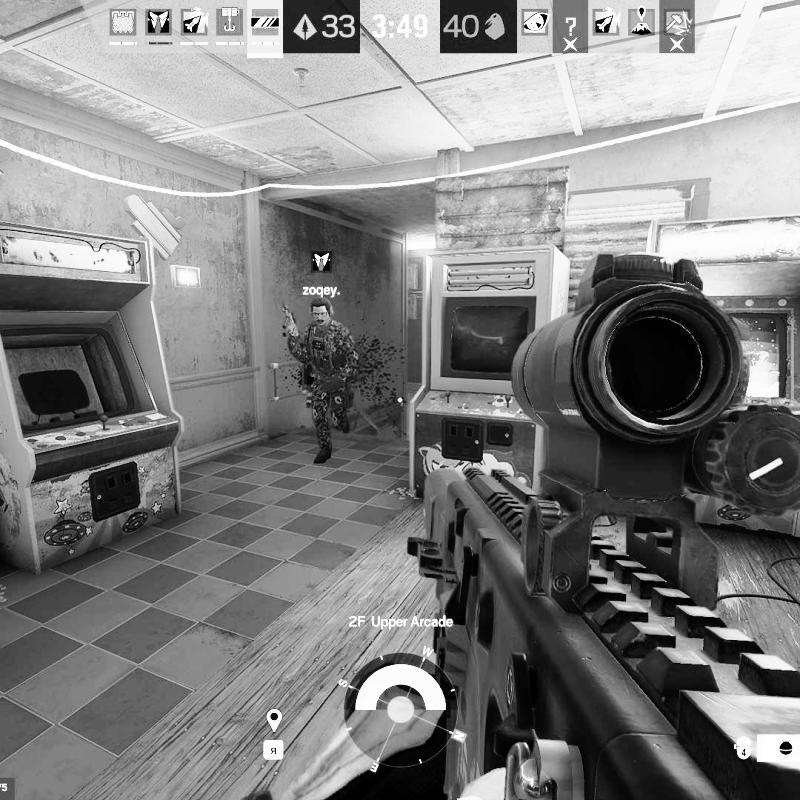Character: (281, 295, 362, 465)
Friend_label: (303, 250, 342, 297)
Head: (309, 298, 334, 327)
